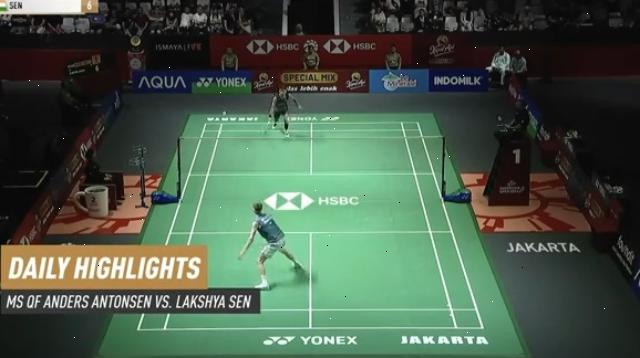Shuttlecock: (222, 107, 228, 119)
